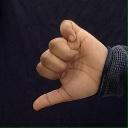hand: (32, 19, 108, 111)
